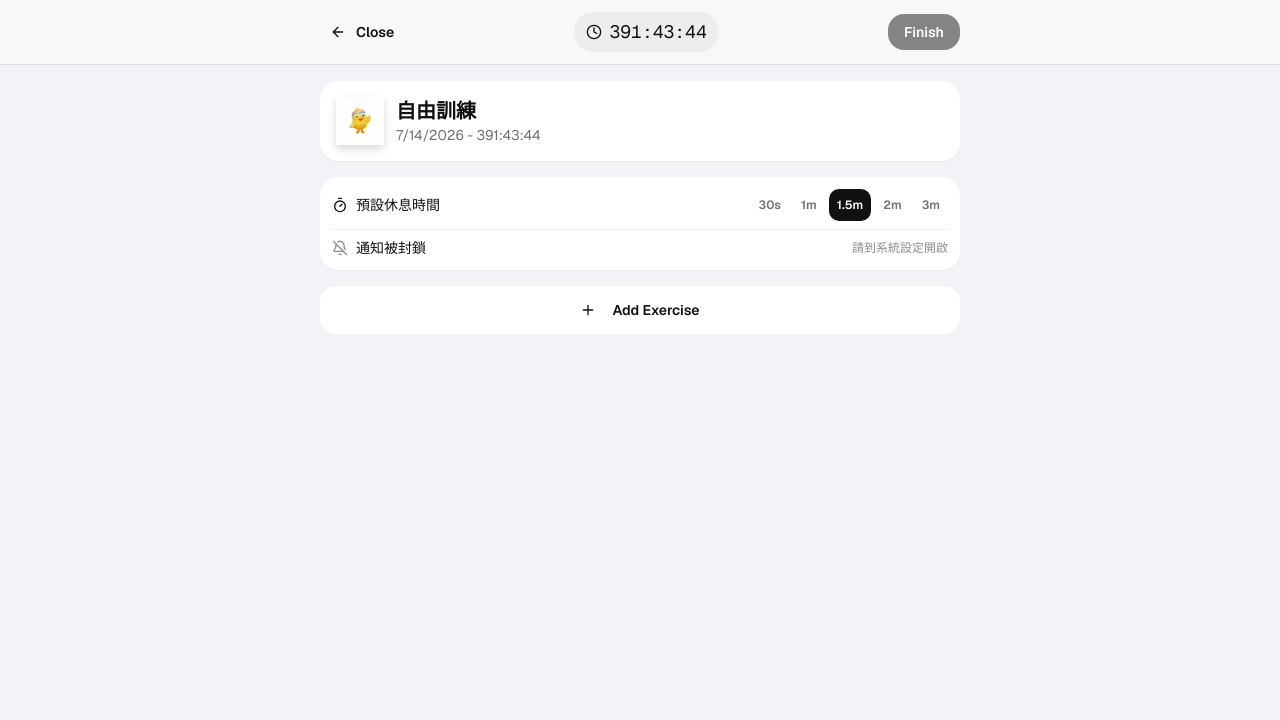
Test: workout finish flow › lets an empty active workout exit without enabling an invalid save
Expected: the button "Finish" is disabled, [888,14,960,50]
Click the button "Close": (362, 32) [320,16,404,48]
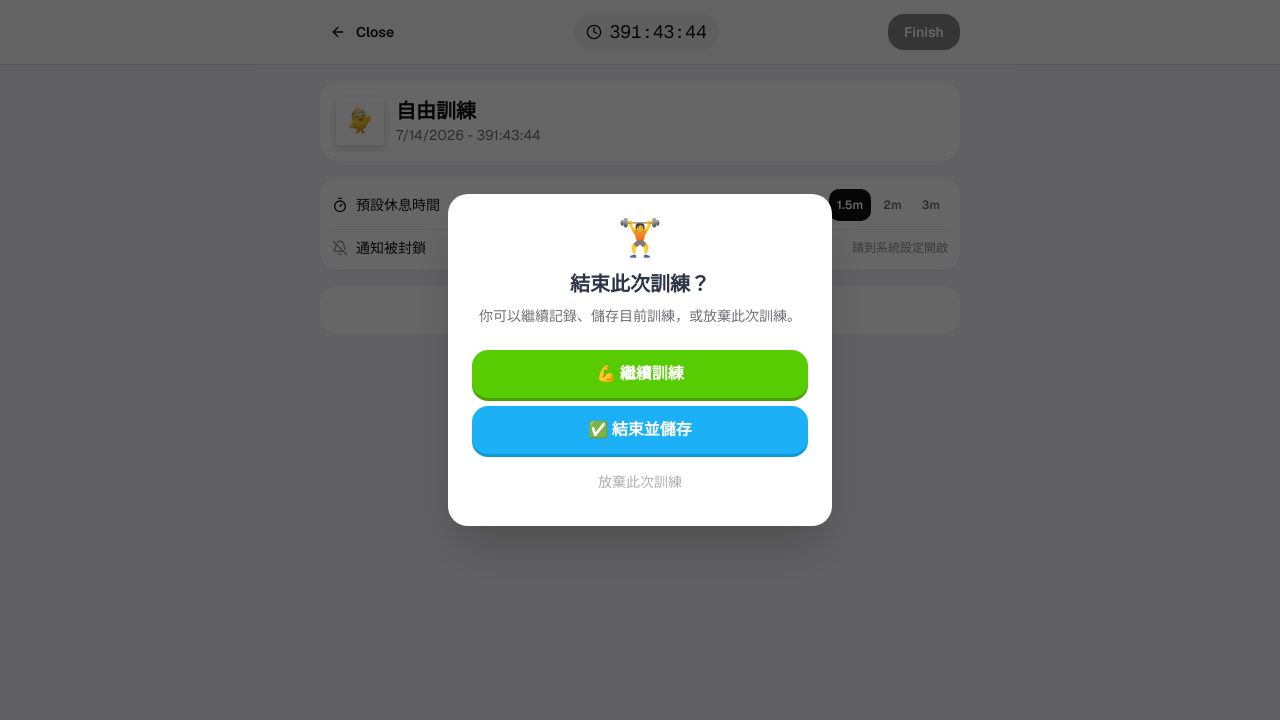
Click the button "放棄此次訓練": (640, 482) [472,462,808,502]
(page scrolled)
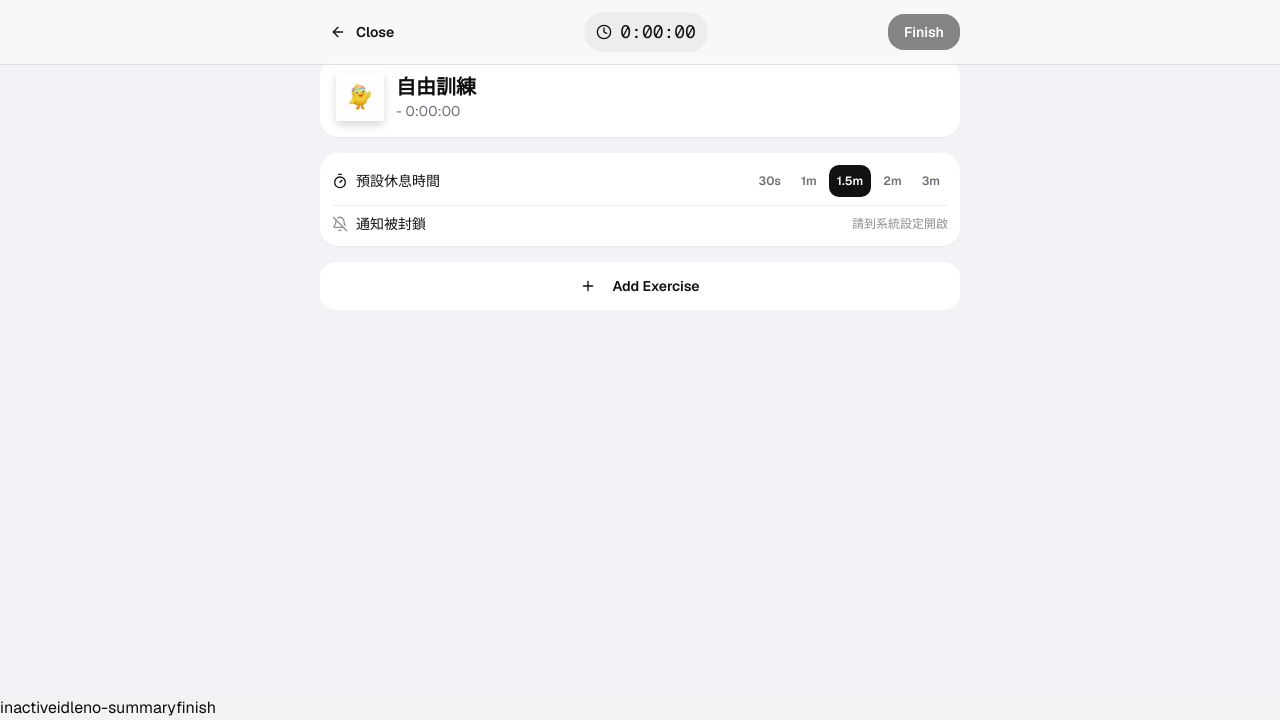
Expected: the text "inactive" is shown, [0,697,57,718]
